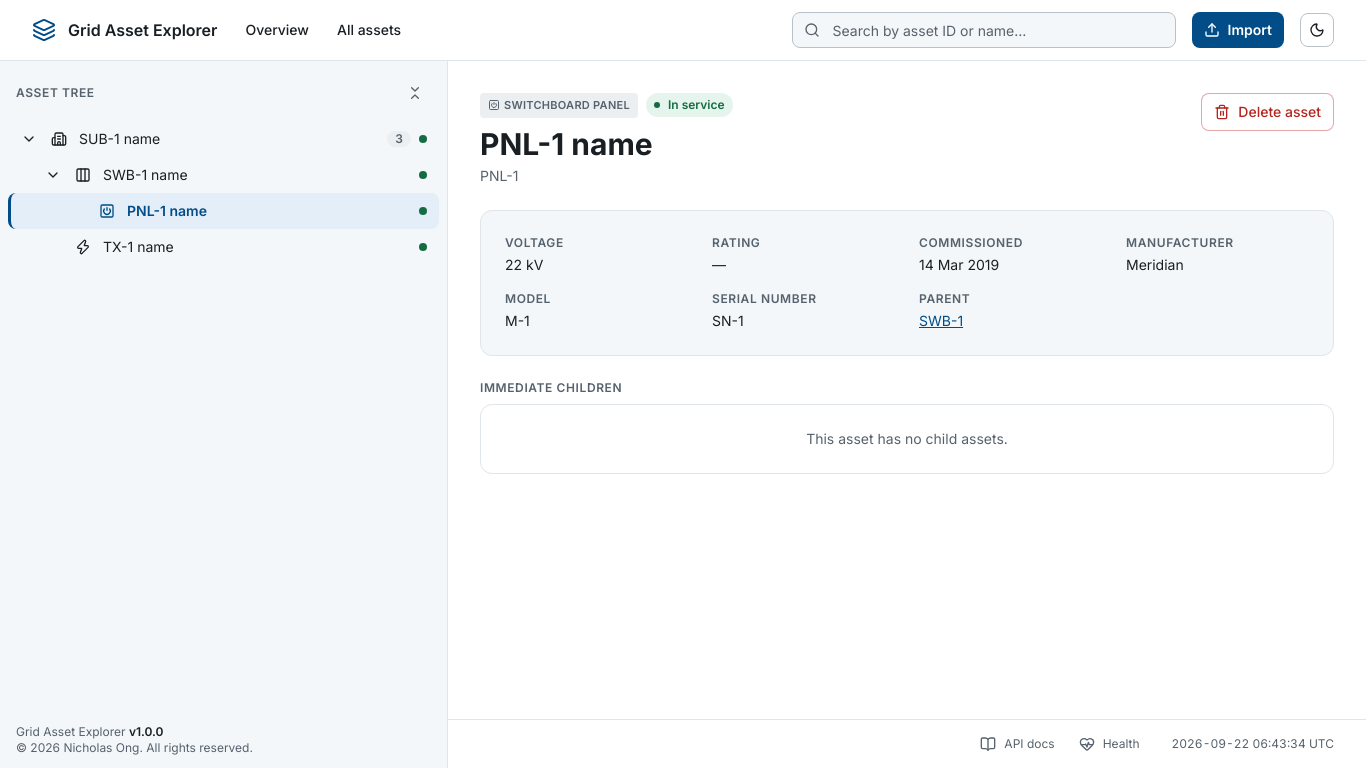
it: AssetTree › Collapse all closes every open node
Check: the list item "PNL-1 name" is shown, box [8,193,439,229]
Step 1. Click the button named "Collapse all" → (415, 93), box [399,77,431,109]
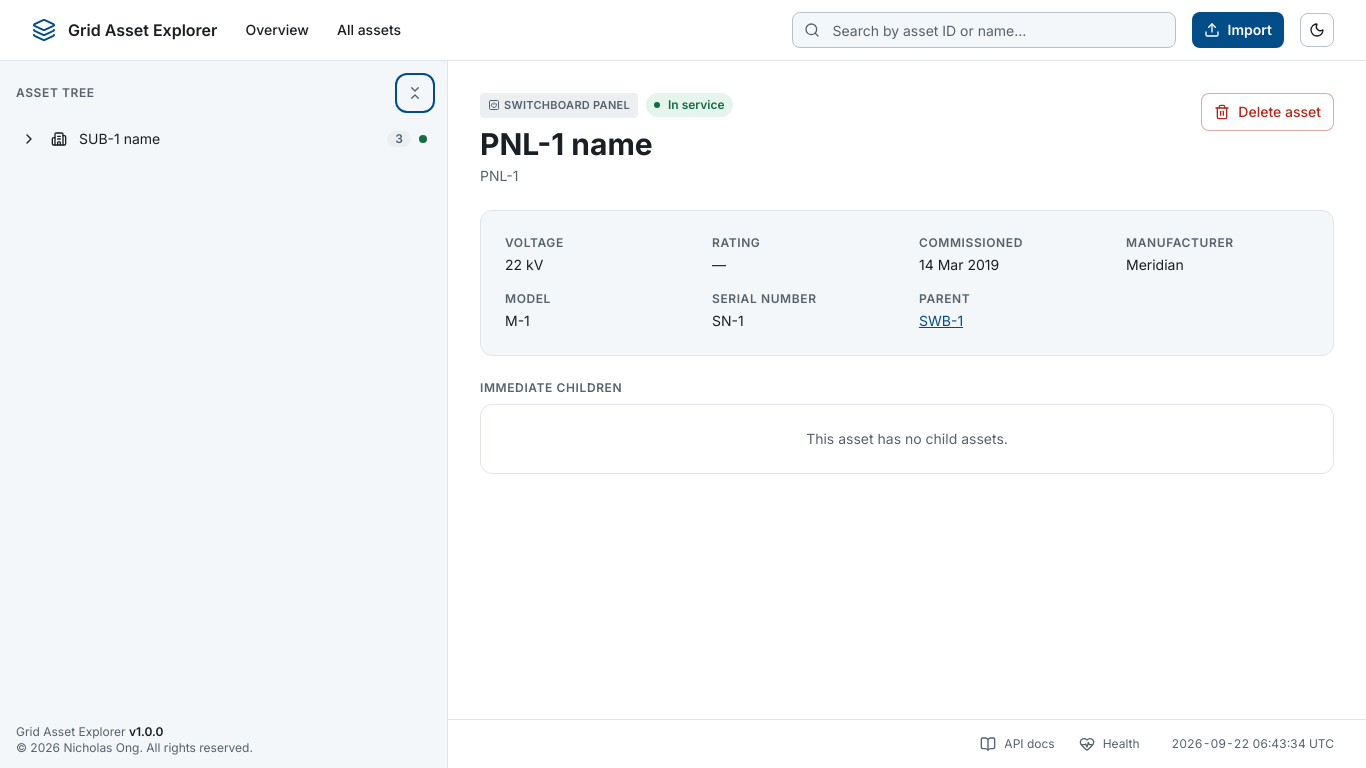
Check: the text "SWB-1 name" is gone
Check: the list item "SUB-1 name 3" is collapsed, box [8,121,439,157]
